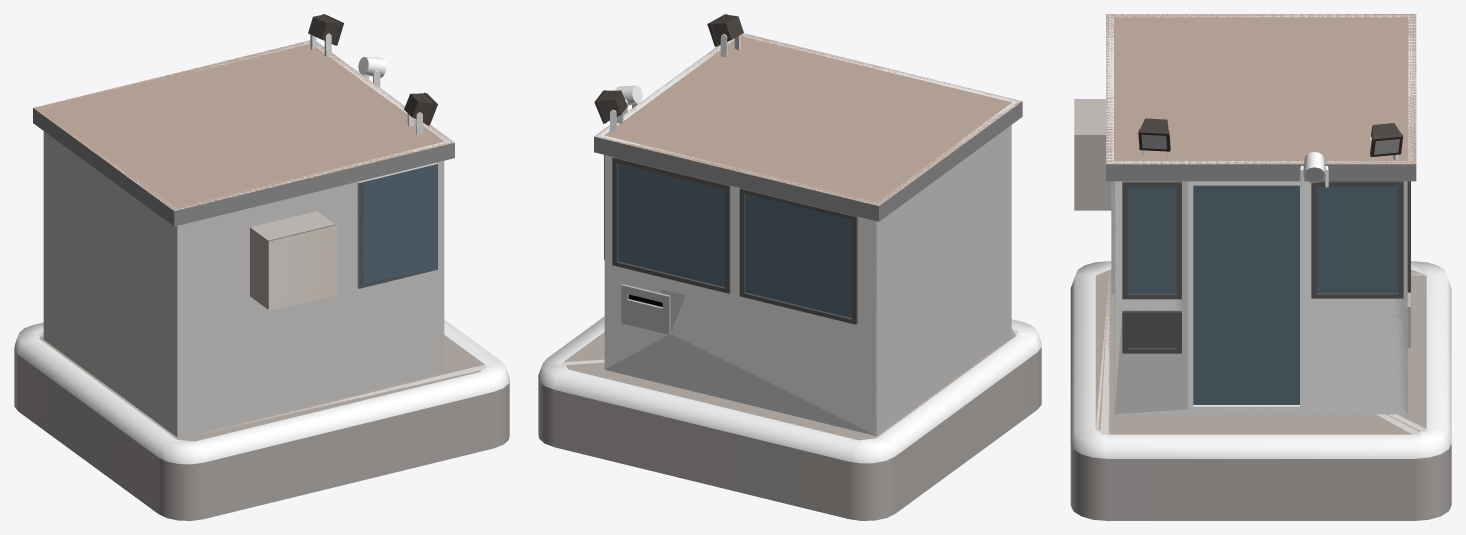
Rendered from guardhouse.dae.
3 renders of one model, left to right at view 1: azimuth 30°, elevation 25°; view 2: azimuth 150°, elevation 25°; view 3: azimuth 270°, elevation 25°, orthographic. The views are drawn at different scales.
Visible parts, largest first — view 1: guardhouse_a050, guardhouse_a300, guardhouse_a150; view 2: guardhouse_a050, guardhouse_a300, guardhouse_a150; view 3: guardhouse_a050, guardhouse_a300, guardhouse_a150.
Boxes of the visible parts, box(x1,y1,x2,y2) form: guardhouse_a050: box(33, 40, 454, 437); guardhouse_a300: box(14, 14, 509, 520); guardhouse_a150: box(18, 15, 501, 462); guardhouse_a050: box(594, 33, 1022, 435); guardhouse_a300: box(538, 14, 1041, 520); guardhouse_a150: box(547, 15, 1037, 461); guardhouse_a050: box(1106, 14, 1416, 414); guardhouse_a300: box(1070, 14, 1451, 520); guardhouse_a150: box(1070, 99, 1451, 458).
Bounding box in the file's own units: 3.54 × 3.07 × 3.24.
